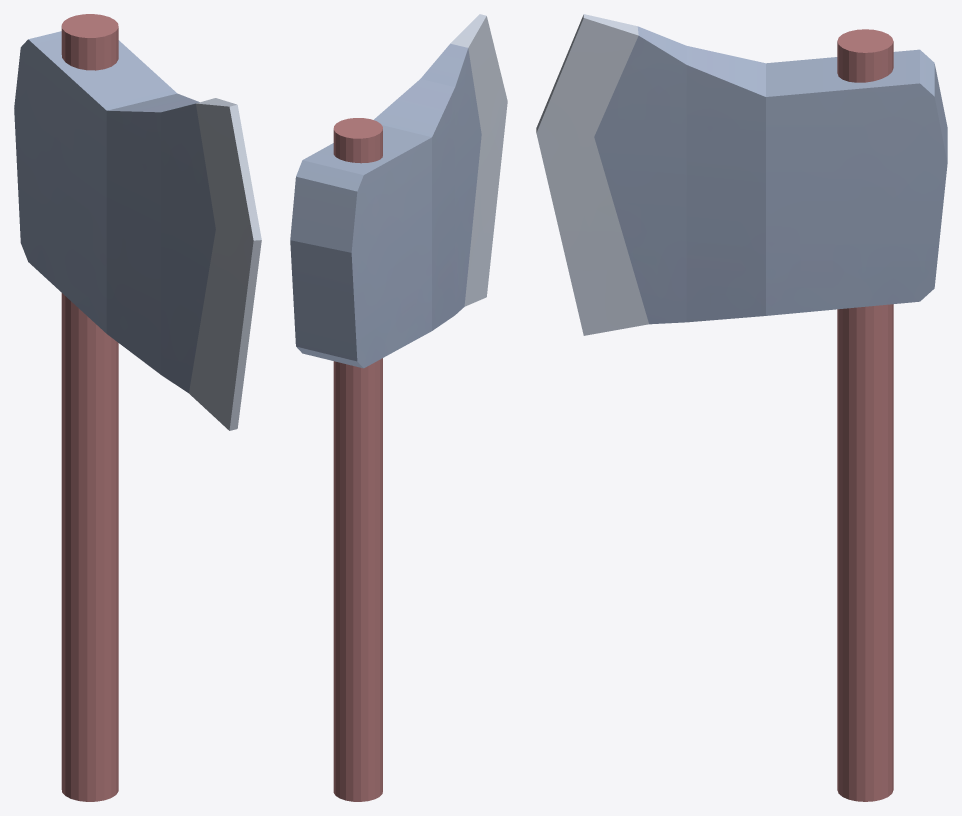
File: Axe.fbx
3 views of the same model, side by side, from view 1: azimuth 30°, elevation 25°; view 2: azimuth 150°, elevation 25°; view 3: azimuth 270°, elevation 25° (orthographic). The views are drawn at different scales.
Parts seen in each view (by area): view 1: Cube.144; view 2: Cube.144; view 3: Cube.144.
Part boxes in pixels (<box>): Cube.144: <box>14,14,261,801</box>; Cube.144: <box>290,14,507,801</box>; Cube.144: <box>536,14,947,801</box>.
Size of the model in its own units: 8.22 by 87.65 by 42.19.
